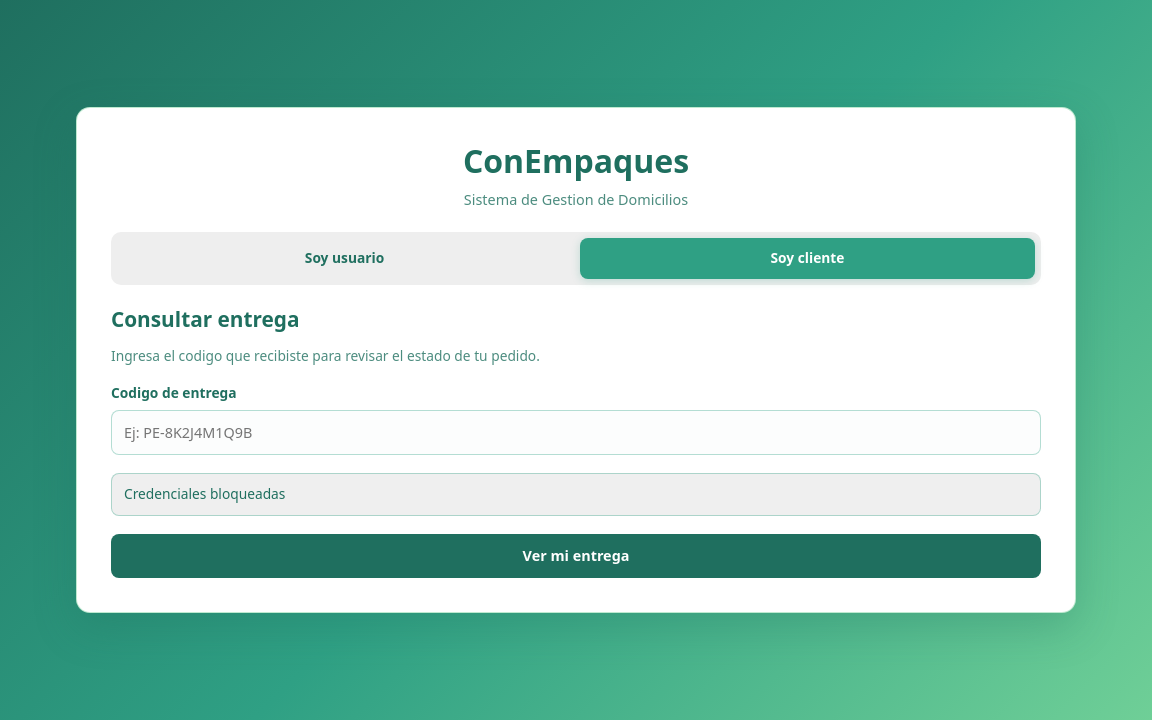
Test: Login module › muestra estado de carga y error en modo usuario
Click the button "Soy usuario": (344,259) [117,238,572,279]
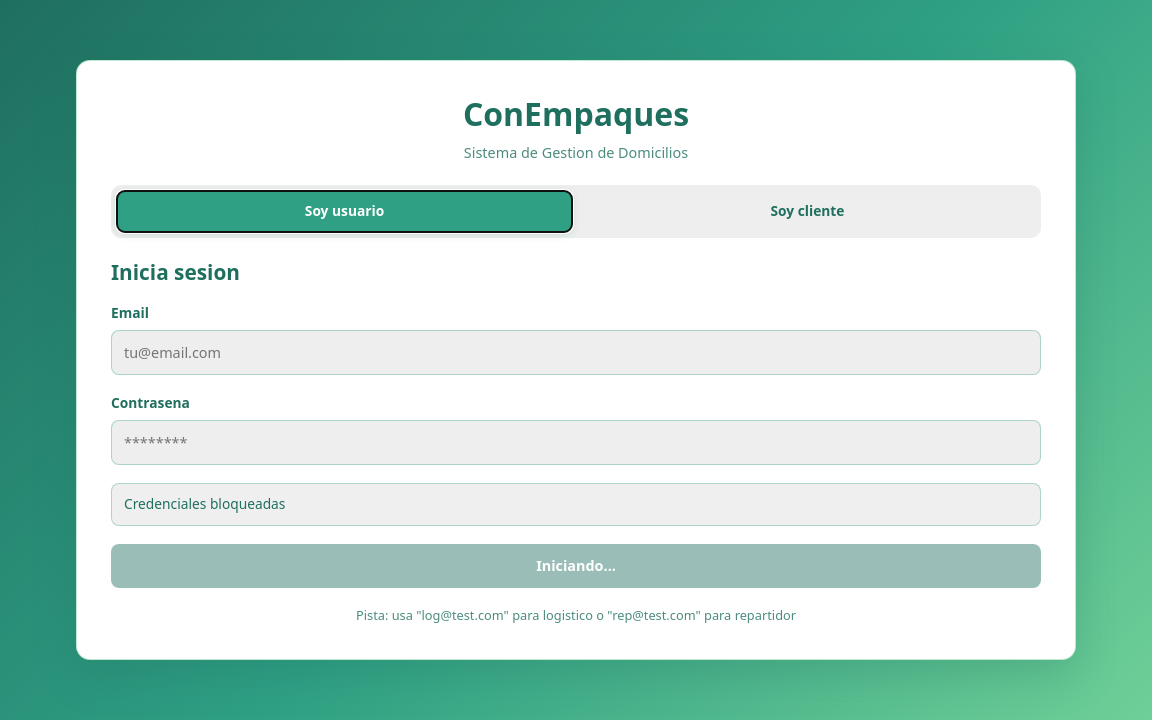
Expected: the field labelled "Email" is disabled, [111,330,1041,375]
Expected: the password field labelled "Contrasena" is disabled, [111,420,1041,465]
Expected: the button "Iniciando..." is disabled, [111,544,1041,588]
